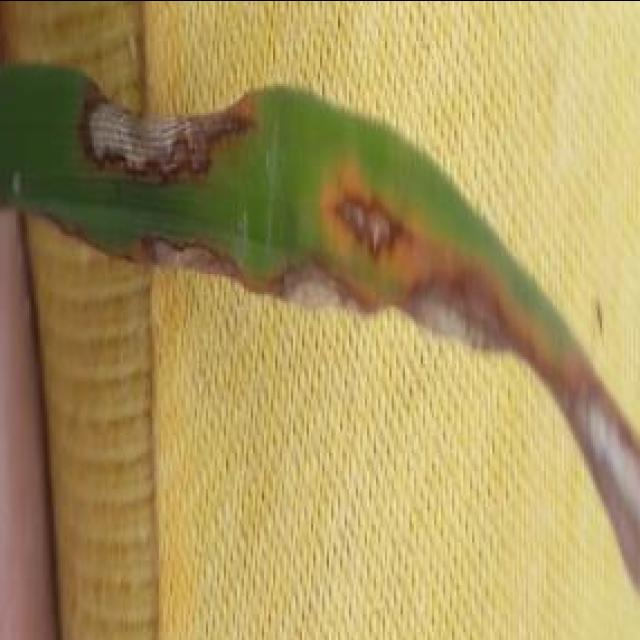Leaf_Blast: (30, 85, 262, 201), (118, 204, 266, 322), (408, 274, 542, 392), (560, 369, 640, 548), (322, 143, 432, 269), (274, 246, 392, 334)
